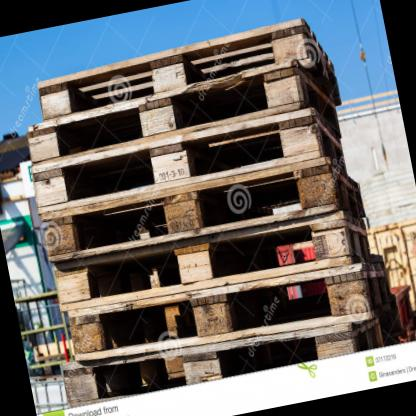BoxFace: (40, 160, 366, 263), (54, 218, 381, 314), (38, 20, 342, 123), (27, 70, 343, 169), (29, 123, 350, 215)
